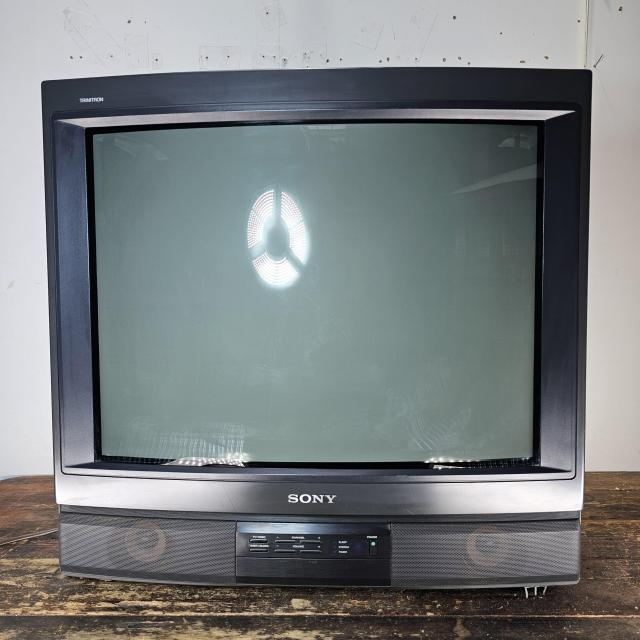electronics: (42, 68, 590, 587), (92, 122, 538, 467), (60, 510, 580, 587), (392, 518, 579, 587), (59, 511, 235, 584), (287, 492, 333, 504), (518, 124, 536, 138), (283, 518, 283, 519)
